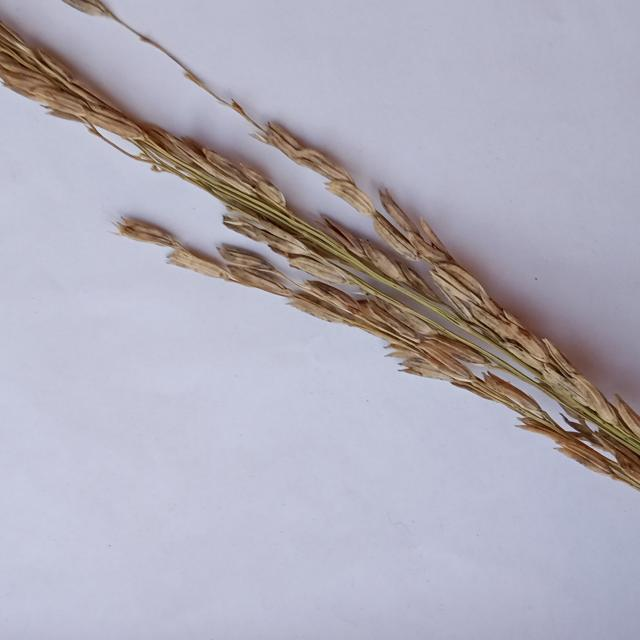Neck_Blast: (1, 20, 640, 450), (115, 211, 640, 486)
